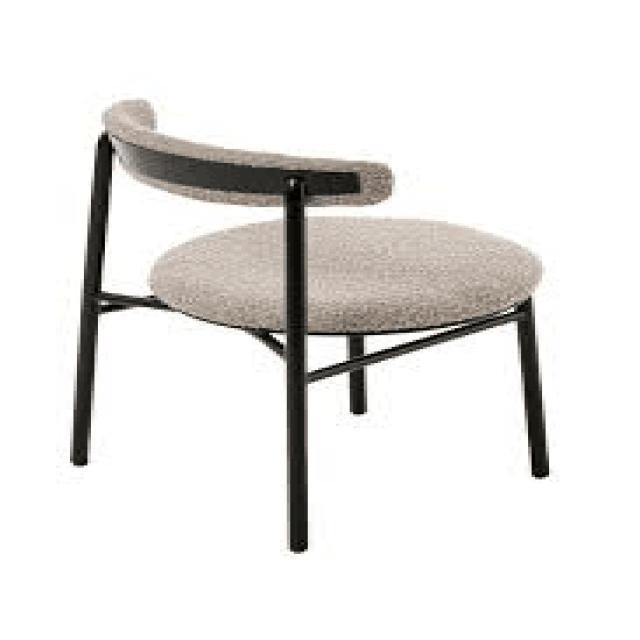chair: (62, 93, 560, 554), (92, 98, 544, 336)
